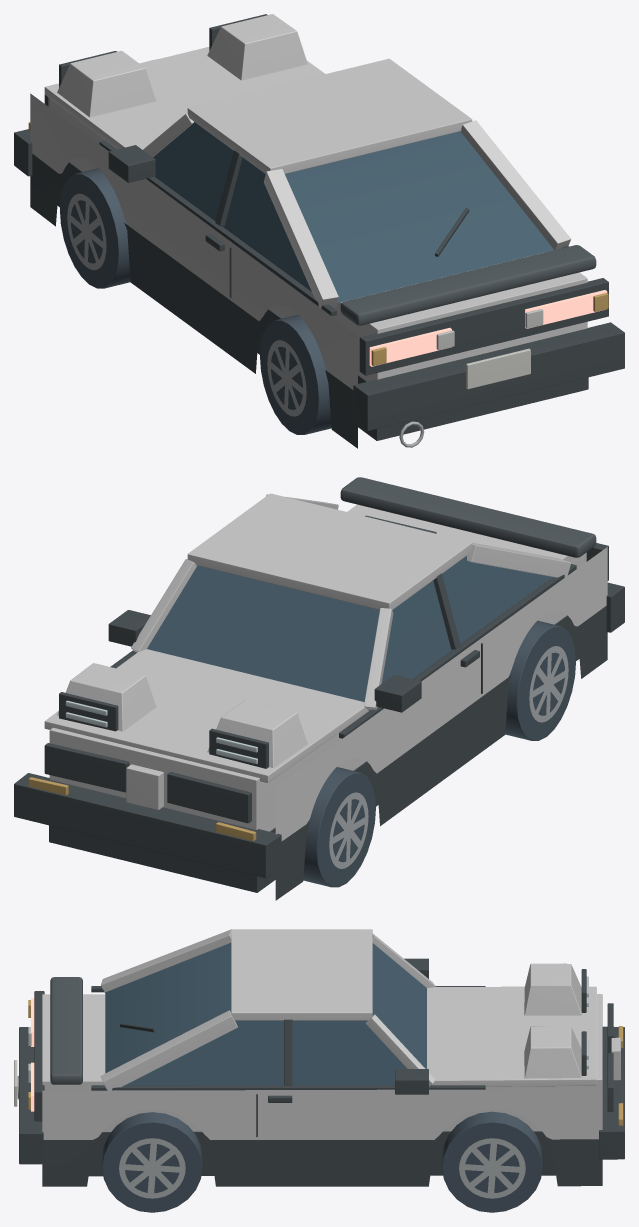
3 views of the same model, one above another, from view 1: azimuth 30°, elevation 25°; view 2: azimuth 150°, elevation 25°; view 3: azimuth 270°, elevation 25° (orthographic). The views are drawn at different scales.
Parts seen in each view (by area): view 1: BodyShell, ActiveRearAero, wheel_rl, wheel_fl, BrakeLights6; view 2: BodyShell, ActiveRearAero, wheel_fl, wheel_rl; view 3: BodyShell, wheel_fr, wheel_rr, ActiveRearAero.
Part boxes in pixels (<box>): BodyShell: <box>14,14,624,448</box>; ActiveRearAero: <box>340,245,596,325</box>; wheel_rl: <box>260,314,331,434</box>; wheel_fl: <box>60,168,130,288</box>; BrakeLights6: <box>369,290,607,366</box>; BodyShell: <box>14,493,624,900</box>; ActiveRearAero: <box>340,477,596,557</box>; wheel_fl: <box>303,767,375,887</box>; wheel_rl: <box>505,620,575,740</box>; BodyShell: <box>14,929,624,1186</box>; wheel_fr: <box>442,1111,542,1212</box>; wheel_rr: <box>102,1112,202,1212</box>; ActiveRearAero: <box>50,977,82,1084</box>.
Bounding box in the file's own units: 2.12 × 1.53 × 4.49.
